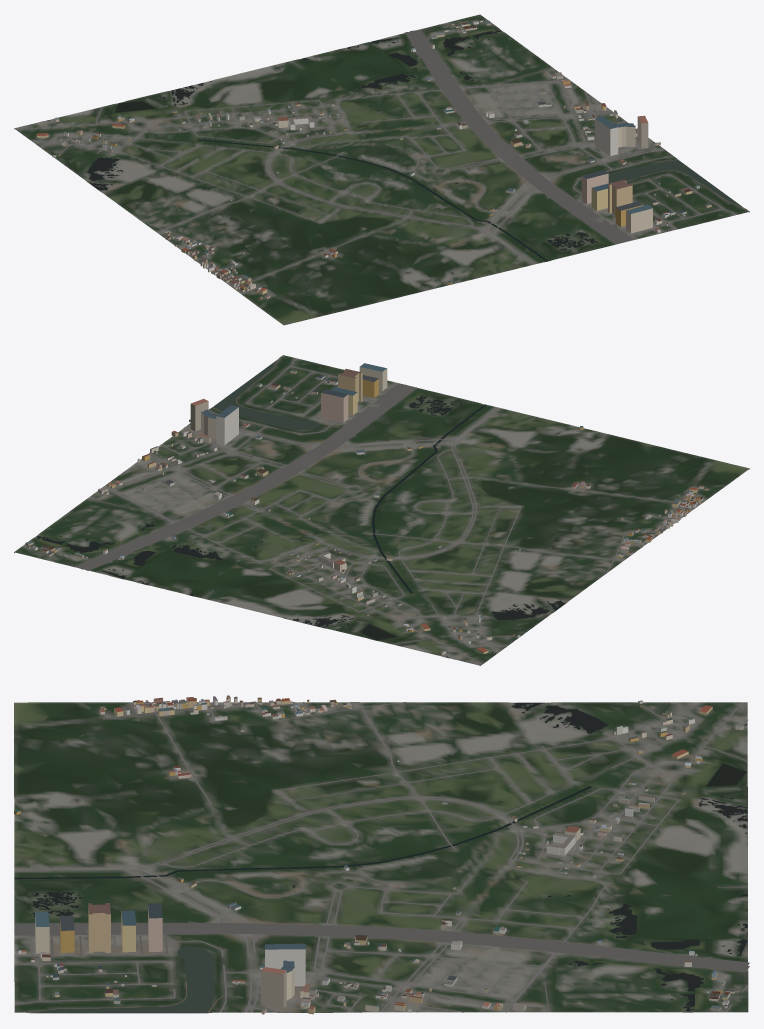
3 renders of one model, top to bottom at view 1: azimuth 30°, elevation 25°; view 2: azimuth 150°, elevation 25°; view 3: azimuth 270°, elevation 25°, orthographic. The views are drawn at different scales.
Parts seen in each view (by area): view 1: ground, roads, buildings, water; view 2: ground, roads, buildings, water; view 3: ground, roads, buildings, water.
Boxes of the visible parts, box(x1,y1,x2,y2) form: ground: box(14, 14, 749, 325); roads: box(16, 20, 747, 295); buildings: box(36, 20, 711, 299); water: box(47, 30, 741, 261); ground: box(14, 355, 749, 665); roads: box(22, 357, 706, 664); buildings: box(25, 363, 708, 654); water: box(37, 360, 564, 657); ground: box(14, 702, 748, 1013); roads: box(14, 701, 749, 1012); buildings: box(14, 695, 743, 1014); water: box(14, 702, 747, 1012).
Size of the model in its own units: 1414 by 85.54 by 1406.
